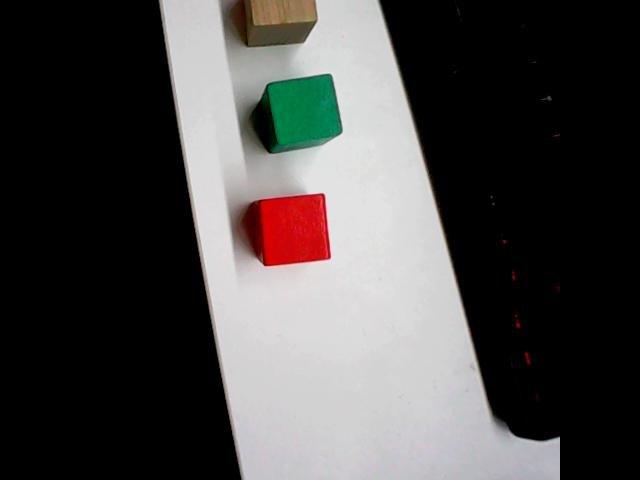green_box: (256, 71, 346, 155)
raw_box: (235, 0, 319, 50)
red_box: (250, 189, 335, 270)
